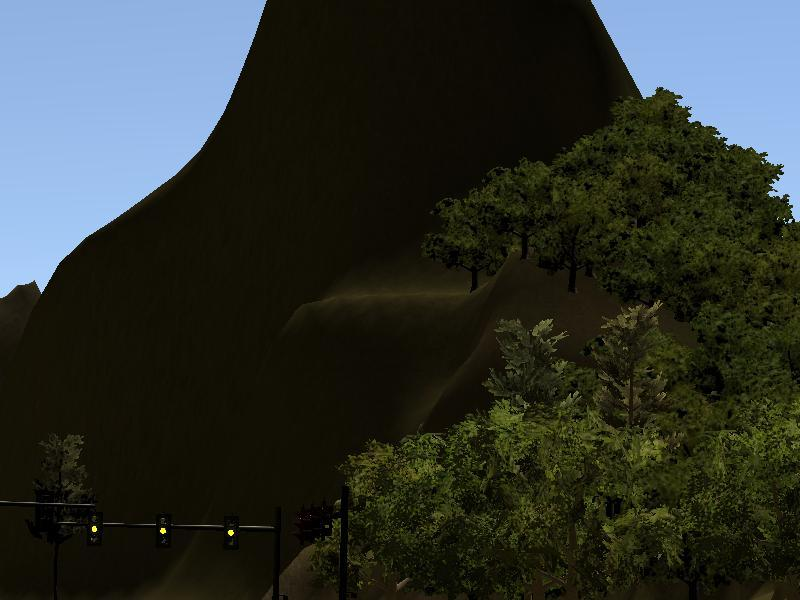Yellow: (155, 513, 173, 548), (86, 511, 103, 547), (223, 514, 239, 550)
